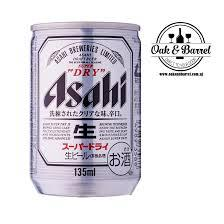beer: (29, 21, 143, 198)
